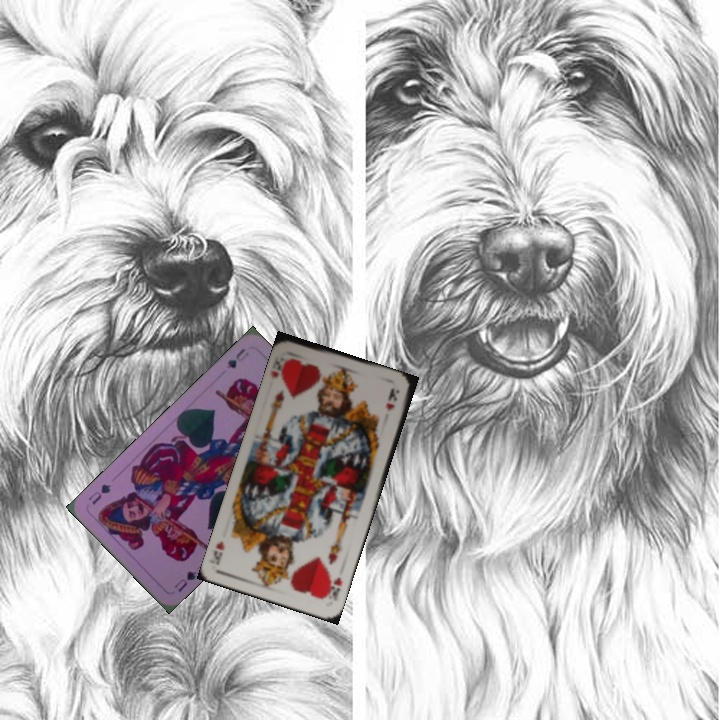GU: (170, 567, 199, 595), (222, 344, 252, 371)
HK: (267, 354, 293, 383), (321, 573, 345, 603)
